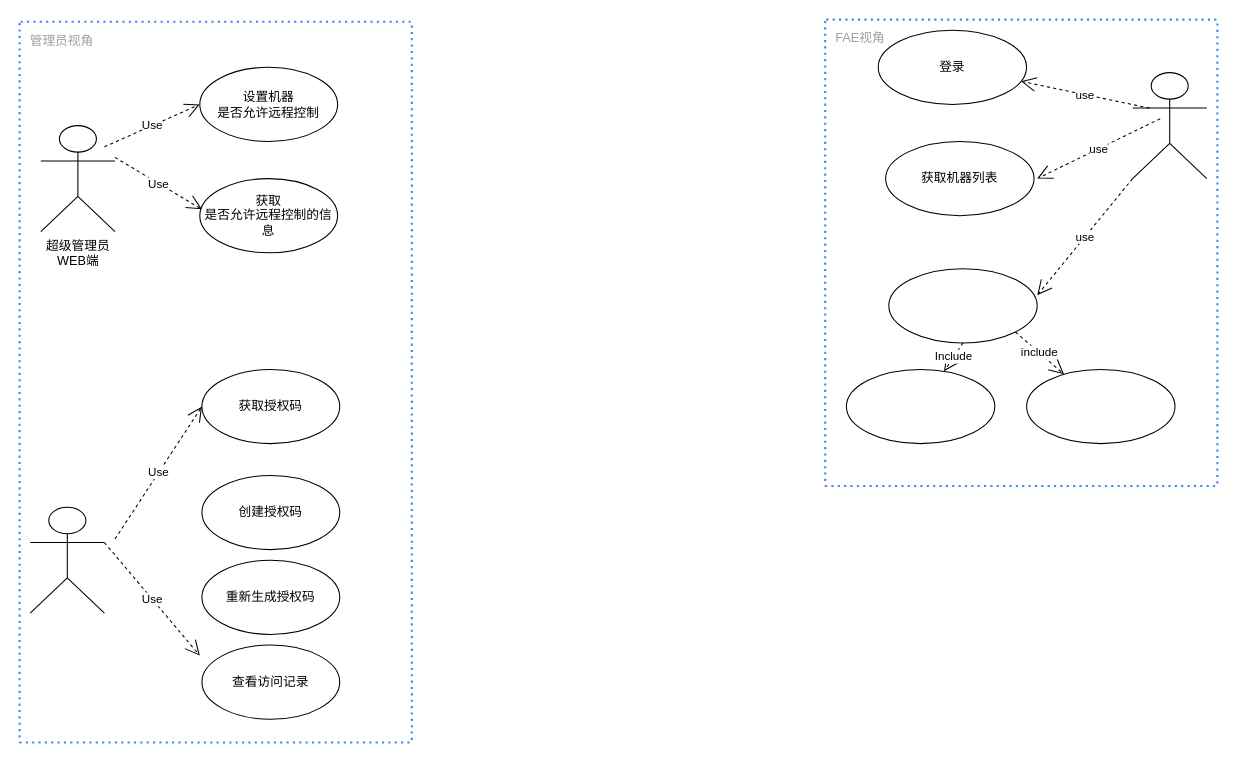
Some shapes in this 1236 by 761 pixel diagram are drawn without their labels. Each missing label, with the centre of its shape:
"FAE APP端" belongs at point 1169,125.
"创建访问记录" belongs at point 1100,406.
"授权码校验" belongs at point 920,406.
"管理员 WEB端" belongs at point 66,559.
"运程登录" belongs at point 962,305.
